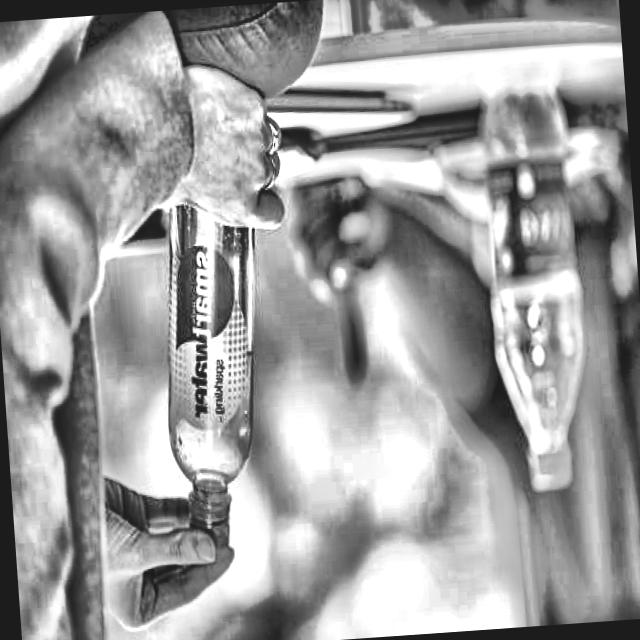waterbottle: (140, 98, 286, 571), (469, 54, 604, 511)
